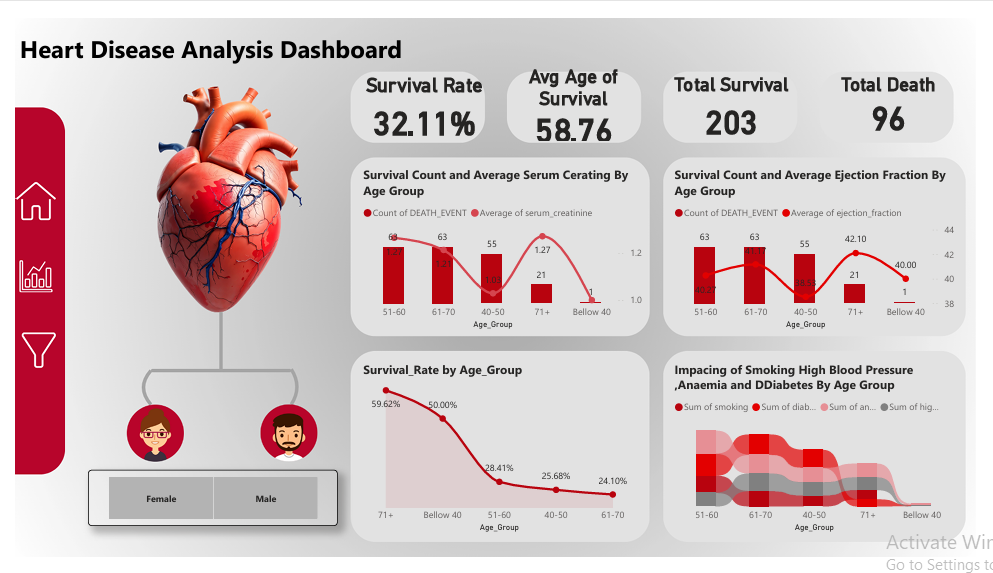

The dashboard page shown, as its layout file describes it:
{"tool":"powerbi","page":{"name":"Page 1","canvas":[1280,720],"ordinal":0},"visuals":[{"type":"textbox","box":[0,11.8,640,60.5],"z":0},{"type":"card","title":"Survival Rate","fields":{"Values":["Heart_Disease_Dataset.Survival_Rate"]},"box":[447.9,72.3,192.8,95],"z":1},{"type":"card","title":"Avg Age of Survival","fields":{"Values":["Heart_Disease_Dataset.Average_Age_Survival"]},"box":[646.3,62.4,194.2,104.9],"z":2},{"type":"card","title":"Total Survival","fields":{"Values":["Heart_Disease_Dataset.Total_Survival"]},"box":[858.9,72.3,189.9,95],"z":3},{"type":"card","title":"Total Death","fields":{"Values":["Heart_Disease_Dataset.Total_Death"]},"box":[1087.1,72.3,151.7,83.6],"z":4},{"type":"lineClusteredColumnComboChart","title":"Survival Count and Average Serum Cerating By Age Group","fields":{"Category":["Heart_Disease_Dataset.Age_Group"],"Y":["CountNonNull(Heart_Disease_Dataset.DEATH_EVENT)"],"Y2":["Avg(Heart_Disease_Dataset.serum_creatinine)"]},"box":[457.8,197,382.7,221.1],"z":5},{"type":"lineClusteredColumnComboChart","title":"Survival Count and Average Ejection Fraction By Age Group","fields":{"Category":["Heart_Disease_Dataset.Age_Group"],"Y":["CountNonNull(Heart_Disease_Dataset.DEATH_EVENT)"],"Y2":["Avg(Heart_Disease_Dataset.ejection_fraction)"]},"box":[873.1,197,382.7,221.1],"z":6},{"type":"lineChart","fields":{"Category":["Heart_Disease_Dataset.Age_Group"],"Y":["Heart_Disease_Dataset.Survival_Rate"]},"box":[457.8,456.4,372.8,232.4],"z":7},{"type":"ribbonChart","title":"Impacing of Smoking High Blood Pressure ,Anaemia and DDiabetes By Age Group","fields":{"Category":["Heart_Disease_Dataset.Age_Group"],"Y":["Sum(Heart_Disease_Dataset.smoking)","Sum(Heart_Disease_Dataset.diabetes)","Sum(Heart_Disease_Dataset.anaemia)","Sum(Heart_Disease_Dataset.high_blood_pressure)"]},"box":[873.1,456.4,382.7,232.4],"z":8},{"type":"slicer","title":"Gender","fields":{"Values":["Heart_Disease_Dataset.sex"]},"box":[96.4,600.9,333.1,75.1],"z":9}]}

Visuals, with their boxes on the page's 1280x720 design canvas (x1, y1, x2, y2). These are canvas units, not pixel positions in the 993x573 screenshot, which may show the page scaled, cropped or inside an application window:
textbox: bbox=(0, 12, 640, 72)
"Survival Rate" card: bbox=(448, 72, 641, 167)
"Avg Age of Survival" card: bbox=(646, 62, 840, 167)
"Total Survival" card: bbox=(859, 72, 1049, 167)
"Total Death" card: bbox=(1087, 72, 1239, 156)
"Survival Count and Average Serum Cerating By Age Group" lineClusteredColumnComboChart: bbox=(458, 197, 840, 418)
"Survival Count and Average Ejection Fraction By Age Group" lineClusteredColumnComboChart: bbox=(873, 197, 1256, 418)
lineChart - Heart_Disease_Dataset.Age_Group x Heart_Disease_Dataset.Survival_Rate: bbox=(458, 456, 831, 689)
"Impacing of Smoking High Blood Pressure ,Anaemia and DDiabetes By Age Group" ribbonChart: bbox=(873, 456, 1256, 689)
"Gender" slicer: bbox=(96, 601, 430, 676)
